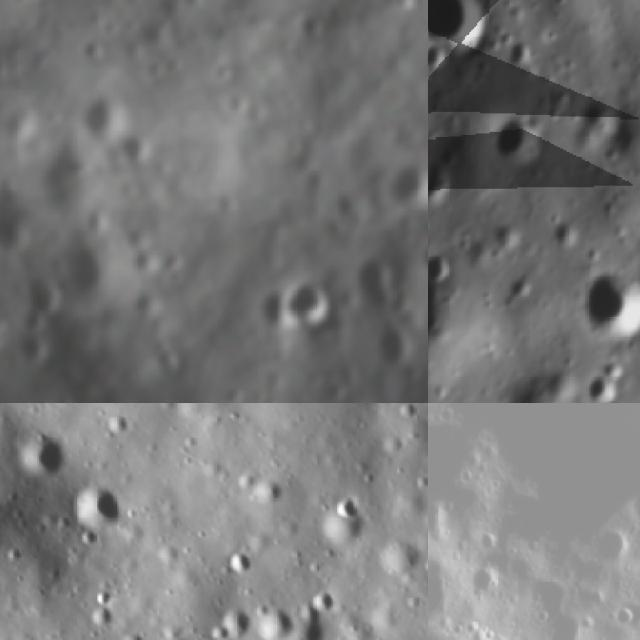crater: (306, 481, 377, 562), (573, 265, 640, 345), (70, 471, 139, 539), (277, 273, 341, 340), (428, 0, 496, 58), (359, 314, 422, 376), (78, 90, 137, 154), (12, 426, 78, 483), (346, 248, 400, 316), (17, 268, 77, 325), (490, 118, 548, 175), (381, 156, 428, 222), (253, 596, 306, 640), (117, 126, 163, 176), (11, 329, 58, 377), (218, 538, 262, 584), (213, 600, 259, 640), (97, 11, 130, 44), (74, 522, 107, 554), (604, 604, 636, 634), (77, 36, 106, 68), (413, 65, 428, 121), (472, 568, 500, 595), (412, 236, 428, 282), (268, 392, 331, 403), (481, 530, 502, 548)
